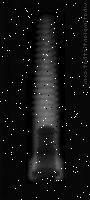Implant Direct: (26, 12, 65, 184)
